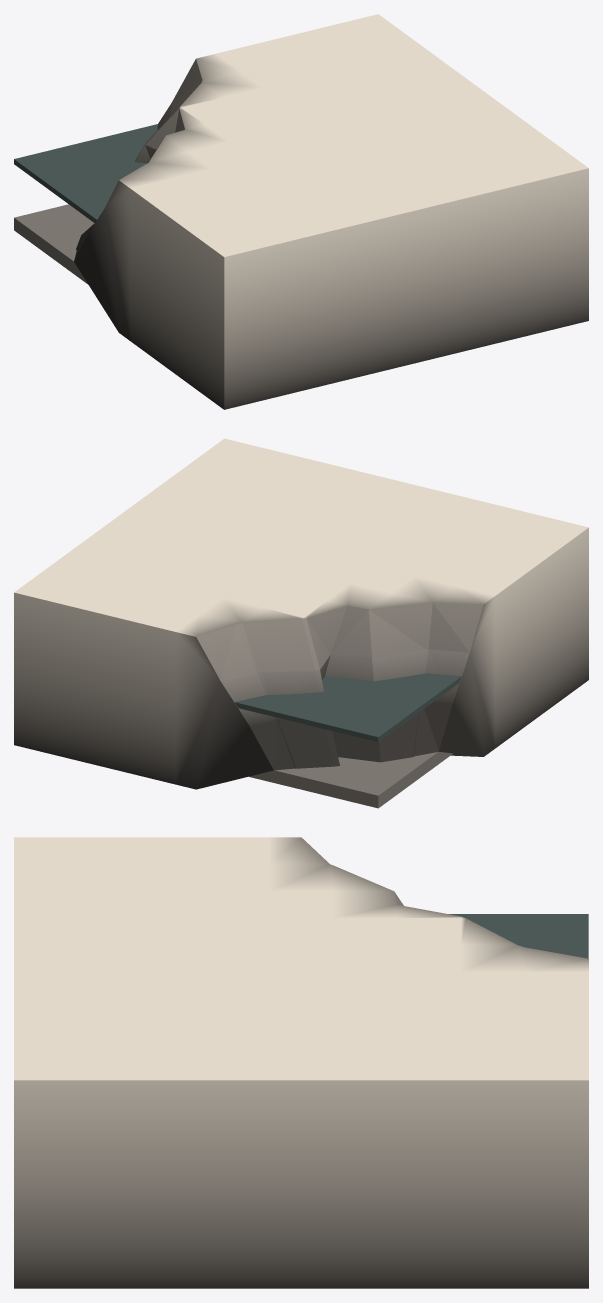
The model's file is SM_VKI_Ground_Stream_OOOX_Q10.fbx.
3 views of the same model, one above another, from view 1: azimuth 30°, elevation 25°; view 2: azimuth 150°, elevation 25°; view 3: azimuth 270°, elevation 25° (orthographic). The views are drawn at different scales.
Parts seen in each view (by area): view 1: SM_VKI_Ground_Stream_OOOX_Q10.001; view 2: SM_VKI_Ground_Stream_OOOX_Q10.001; view 3: SM_VKI_Ground_Stream_OOOX_Q10.001.
Boxes of the visible parts, <box> form: SM_VKI_Ground_Stream_OOOX_Q10.001: <box>14,14,588,409</box>; SM_VKI_Ground_Stream_OOOX_Q10.001: <box>14,438,588,808</box>; SM_VKI_Ground_Stream_OOOX_Q10.001: <box>14,837,588,1288</box>.
Size of the model in its own units: 1.5 by 0.6 by 1.5.
